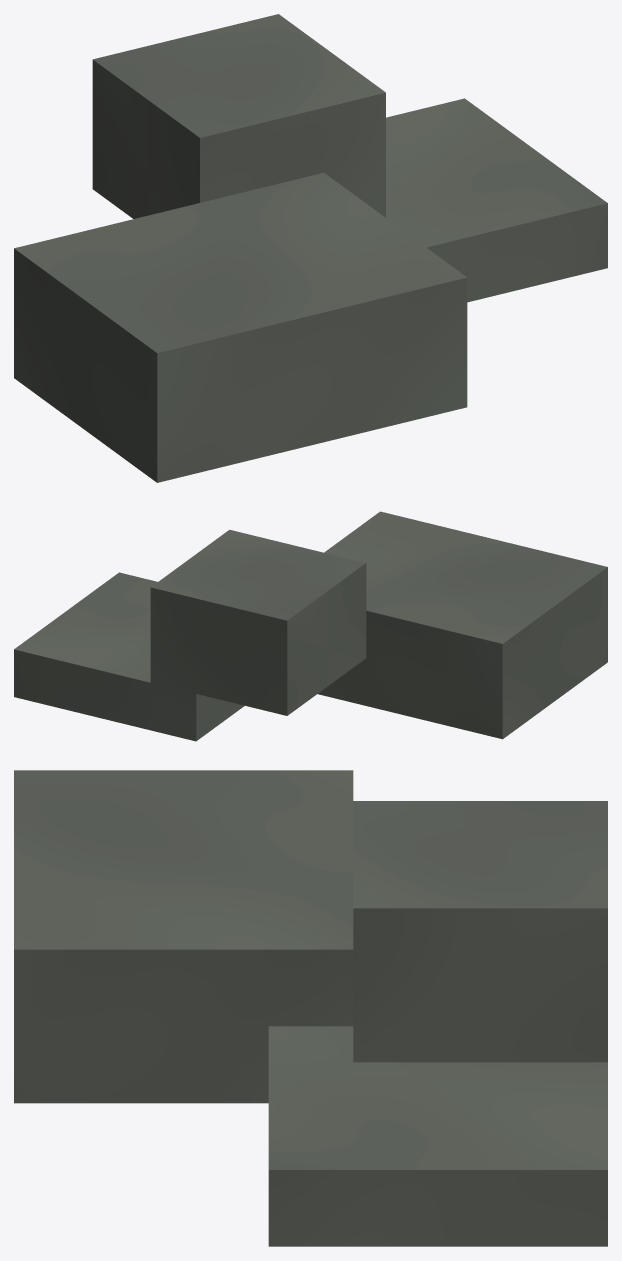
File: RUBBLE_SMALL.glb
The picture shows the model from 3 angles, top to bottom: view 1: azimuth 30°, elevation 25°; view 2: azimuth 150°, elevation 25°; view 3: azimuth 270°, elevation 25°; orthographic projection. The views are drawn at different scales.
Parts seen in each view (by area): view 1: RUBBLE_SMALL; view 2: RUBBLE_SMALL; view 3: RUBBLE_SMALL.
Boxes of the visible parts, bbox=[...] form: RUBBLE_SMALL: bbox=[14, 14, 607, 482]; RUBBLE_SMALL: bbox=[14, 511, 607, 741]; RUBBLE_SMALL: bbox=[14, 770, 607, 1246].
Bounding box in the file's own units: 1.12 × 0.375 × 0.875.
1 material, 1 textured.
